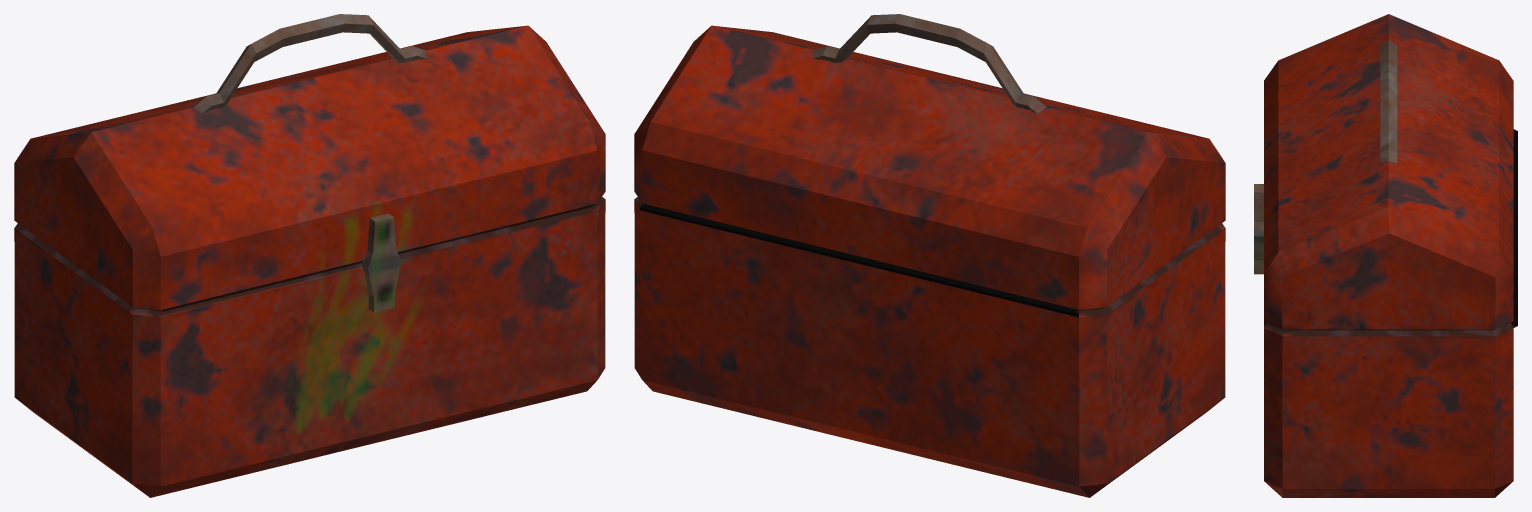
The model's file is SM_Toolbox.fbx.
The picture shows the model from 3 angles, left to right: view 1: azimuth 30°, elevation 25°; view 2: azimuth 150°, elevation 25°; view 3: azimuth 270°, elevation 25°; orthographic projection. The views are drawn at different scales.
Parts seen in each view (by area): view 1: SM_Toolbox; view 2: SM_Toolbox; view 3: SM_Toolbox.
Part boxes in pixels (<box>): SM_Toolbox: <box>14,14,605,497</box>; SM_Toolbox: <box>634,14,1225,497</box>; SM_Toolbox: <box>1254,14,1517,497</box>.
Bounding box in the file's own units: 16.02 × 12.31 × 8.56.
1 material, 1 textured.
